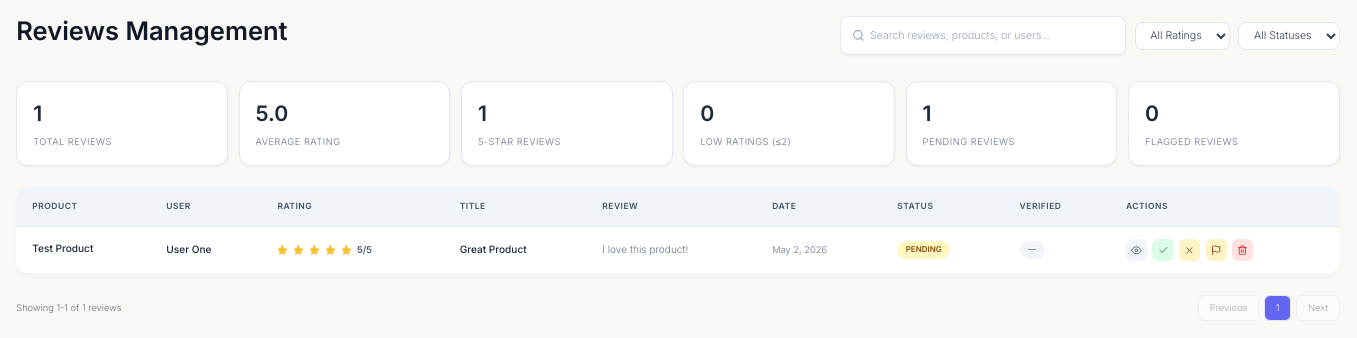
it: ReviewsPage › filters reviews by rating
Select "1 Star" in the 1st dropdown showing "All Ratings" at coordinates (1182, 36), box left=1135, top=22, right=1230, bottom=50
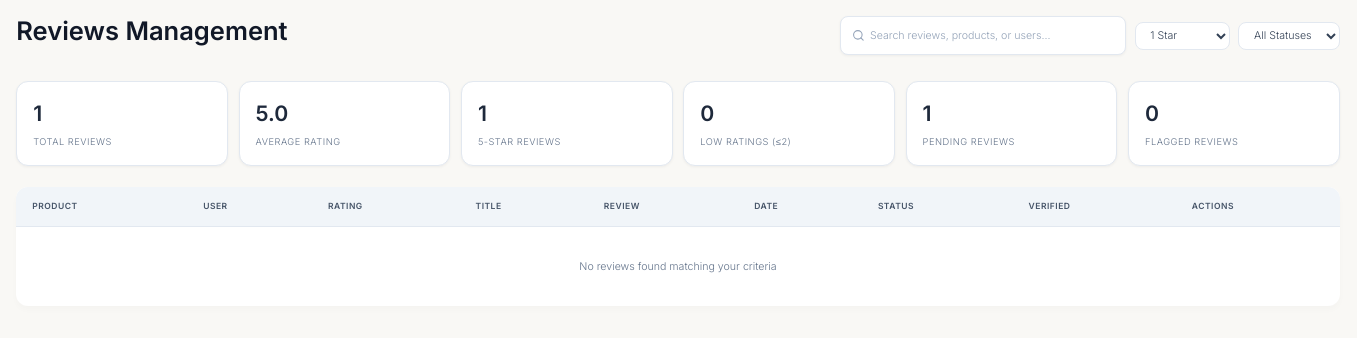
Result: the text "Great Product" is gone
Result: the text "No reviews found matching your criteria" is shown at left=579, top=260, right=777, bottom=273
